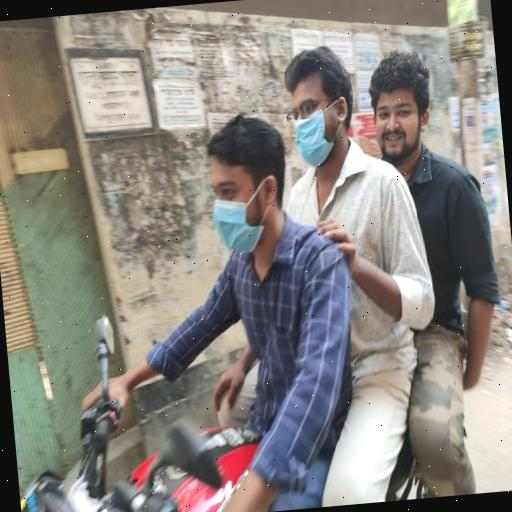no helmet: (200, 116, 300, 282)
triple riding: (0, 37, 511, 512)
